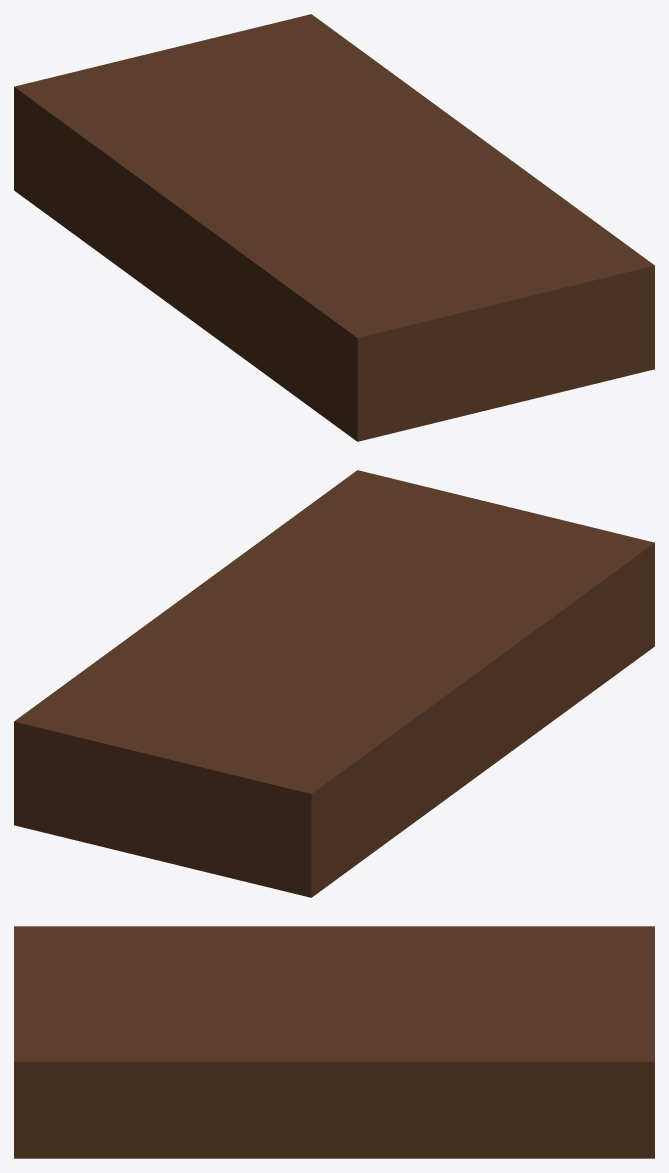
Rendered from wizard__leg_r.glb.
3 views of the same model, one above another, from view 1: azimuth 30°, elevation 25°; view 2: azimuth 150°, elevation 25°; view 3: azimuth 270°, elevation 25° (orthographic). The views are drawn at different scales.
Visible parts, largest first — view 1: wizard__leg_r; view 2: wizard__leg_r; view 3: wizard__leg_r.
Boxes of the visible parts, x1,y1,x2,y2 form: wizard__leg_r: (14, 14, 654, 441); wizard__leg_r: (14, 470, 654, 897); wizard__leg_r: (14, 926, 654, 1158).
Bounding box in the file's own units: 0.3 × 0.1 × 0.6.
Materials: 1 (1 with a texture image).
